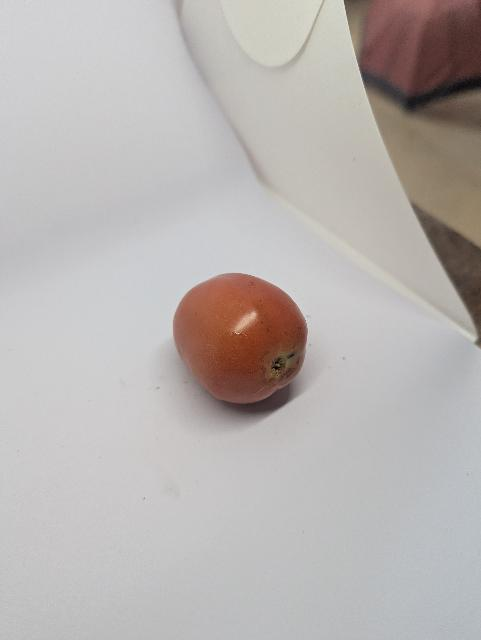red: (168, 269, 314, 416)
